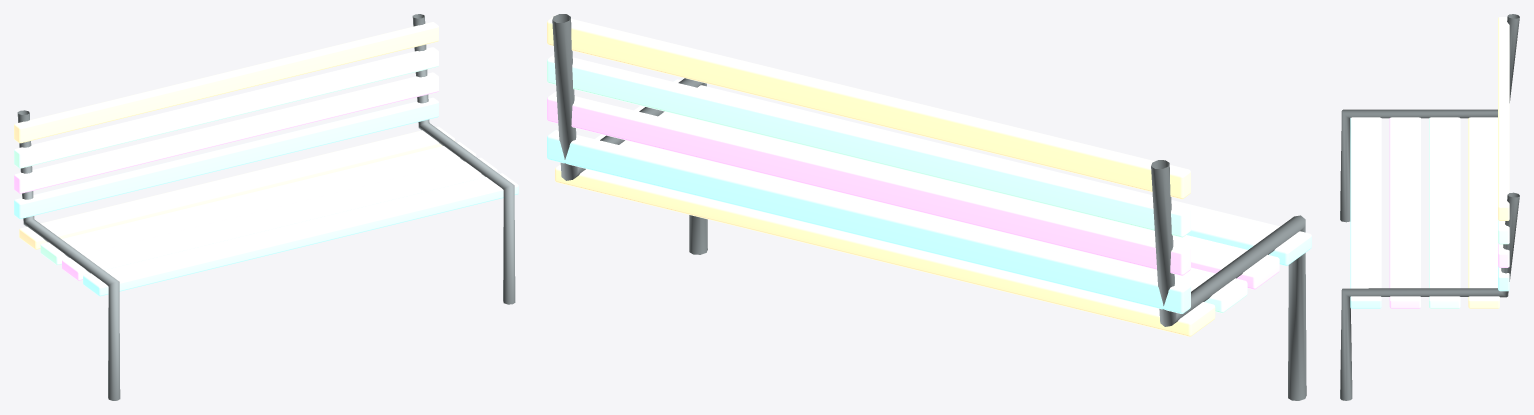
The model's file is prod-1439-fledpchr.glb.
3 views of the same model, side by side, from view 1: azimuth 30°, elevation 25°; view 2: azimuth 150°, elevation 25°; view 3: azimuth 270°, elevation 25° (orthographic). The views are drawn at different scales.
Parts seen in each view (by area): view 1: Back luminous slat.004, Back luminous slat.007, Back luminous slat.006, Back luminous slat.005, Bench metal side.002; view 2: Back luminous slat.007, Back luminous slat.004, Back luminous slat.005, Back luminous slat.006, Bench metal side.002; view 3: Back luminous slat.007, Bench metal side.002, Back luminous slat.006, Back luminous slat.005, Back luminous slat.004.
Boxes of the visible parts, x1,y1,x2,y2 form: Back luminous slat.004: (14,97,518,296); Back luminous slat.007: (14,22,454,249); Back luminous slat.006: (14,47,476,265); Back luminous slat.005: (14,72,497,280); Bench metal side.002: (17,14,515,400); Back luminous slat.007: (547,15,1215,336); Back luminous slat.004: (547,79,1311,313); Back luminous slat.005: (547,91,1279,289); Back luminous slat.006: (547,54,1247,313); Bench metal side.002: (552,14,1306,400); Back luminous slat.007: (1468,17,1509,308); Bench metal side.002: (1340,14,1519,400); Back luminous slat.006: (1429,117,1509,308); Back luminous slat.005: (1389,117,1509,308); Back luminous slat.004: (1350,117,1509,308).
Bounding box in the file's own units: 1.5 × 0.75 × 0.6.
